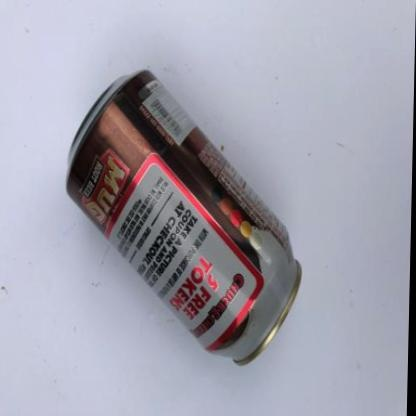trash: (67, 70, 300, 364)
